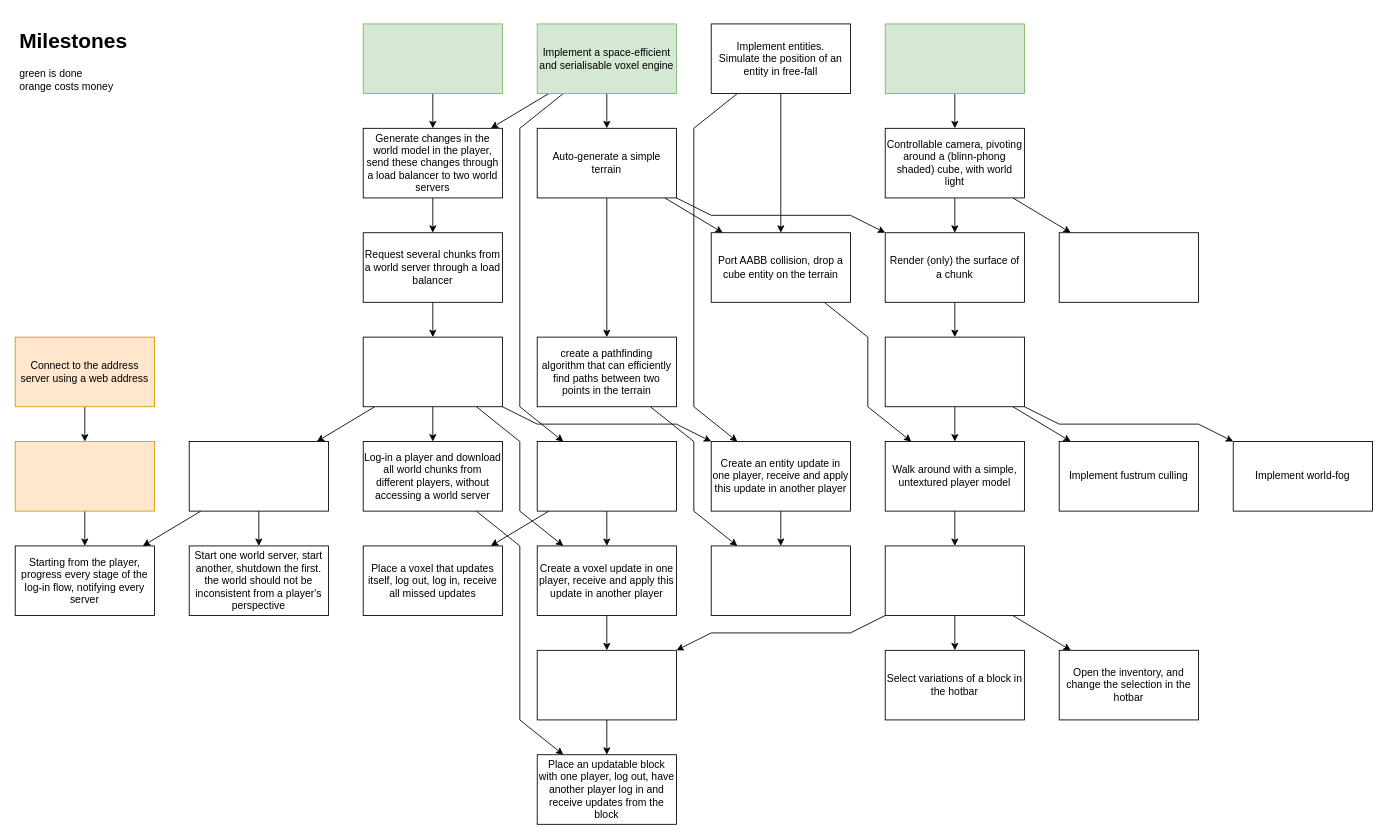
The diagram is 1388 pixels wide and 840 high, and some of its shapes have lost their labels. Here are the shapes that lost their labels. From the top down, the box of each, then its label:
(362, 23, 502, 94): Send a message from one rust binary to another rust binary using ZeroMQ
(884, 23, 1024, 94): Render a black cube against a magenta background
(1058, 232, 1198, 302): Start youtube channel?
(362, 336, 502, 407): Log-in a player, and connect with a previously connected player
(884, 336, 1024, 407): Render a distance-limited surface of the world
(14, 441, 154, 511): "authentication"
(188, 441, 328, 511): Start up a selection of servers, have no failures, misses or inconsistencies
(536, 441, 676, 511): Place a voxel that updates itself after some time
(710, 545, 850, 616): Implement a dog, which follows players on a distance
(884, 545, 1024, 616): select a block from a (new) hotbar, place it, and remove another
(536, 649, 676, 720): Place a block with one player, see this change in another player
